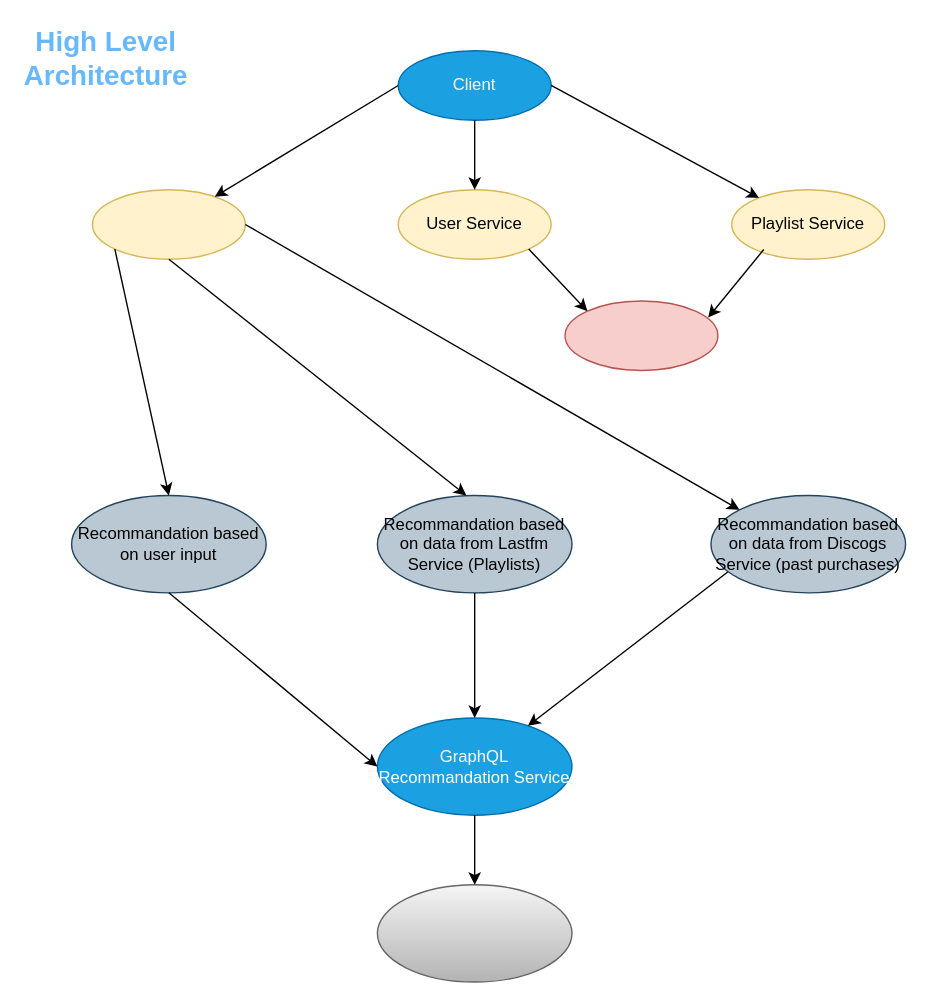
Some shapes in this 930 by 1006 pixel diagram are drawn without their labels. Each missing label, with the box of its shape:
Database: (564, 300, 718, 370)
Recommendation Service: (91, 188, 245, 259)
Wikidata: (376, 883, 572, 982)
